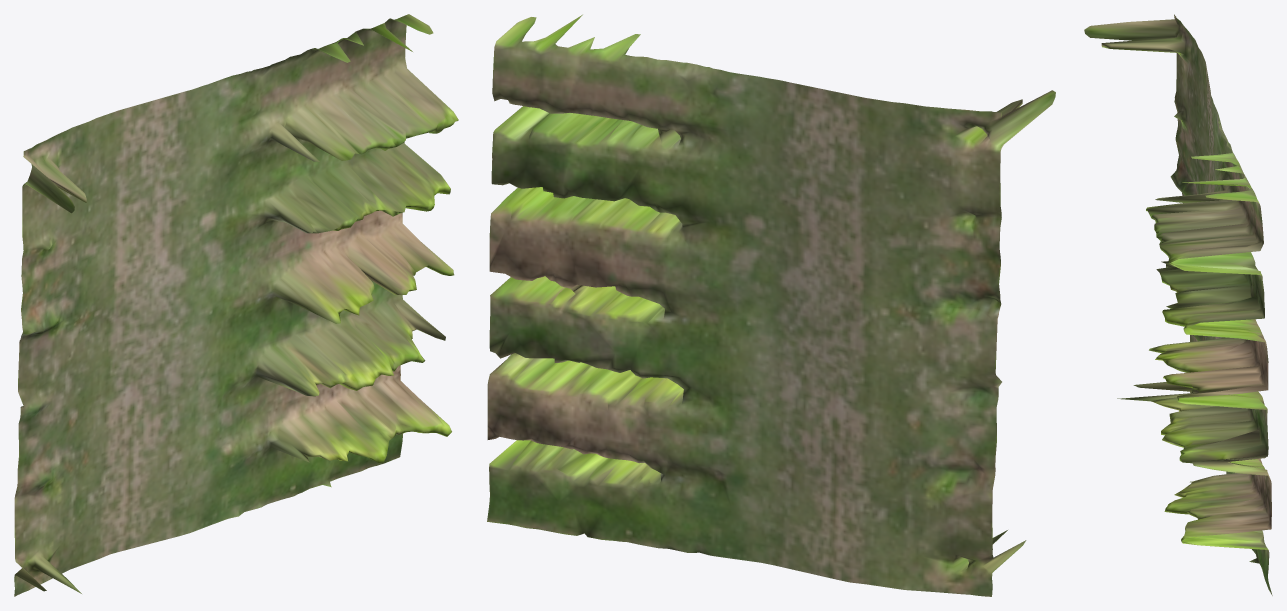
Rendered from map_160_10.obj.
The picture shows the model from 3 angles, left to right: view 1: azimuth 30°, elevation 25°; view 2: azimuth 150°, elevation 25°; view 3: azimuth 270°, elevation 25°; orthographic projection. The views are drawn at different scales.
Bounding box in the file's own units: 10 × 10 × 4.3.
1 material, 1 textured.
